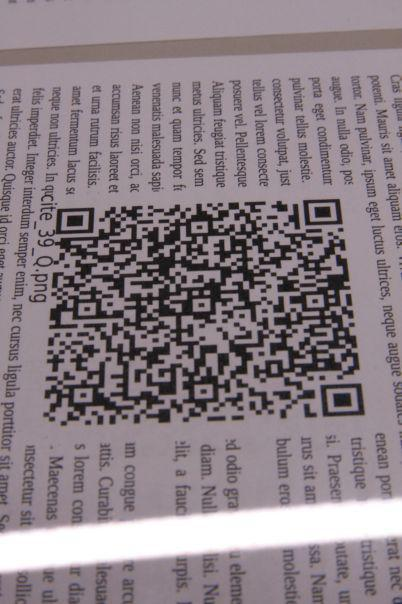Finder pattern: (315, 377, 373, 426), (299, 194, 347, 230), (52, 205, 98, 240)
